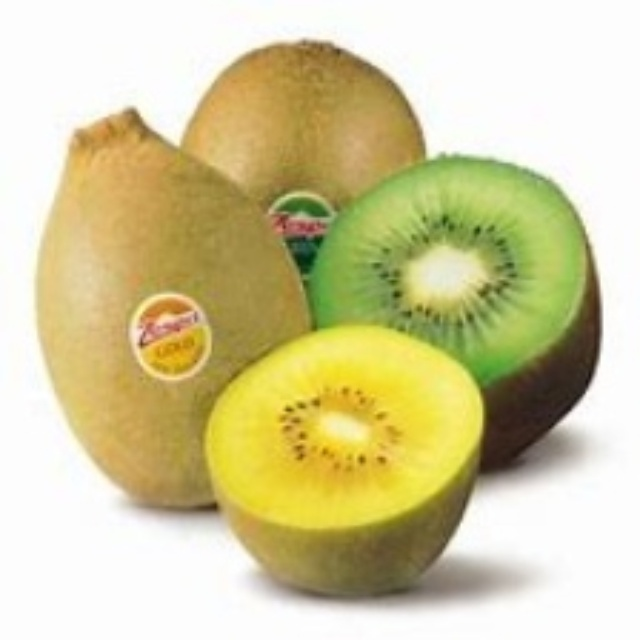kiwi: (43, 112, 309, 509), (315, 154, 606, 463), (200, 322, 474, 593), (177, 40, 427, 279)
